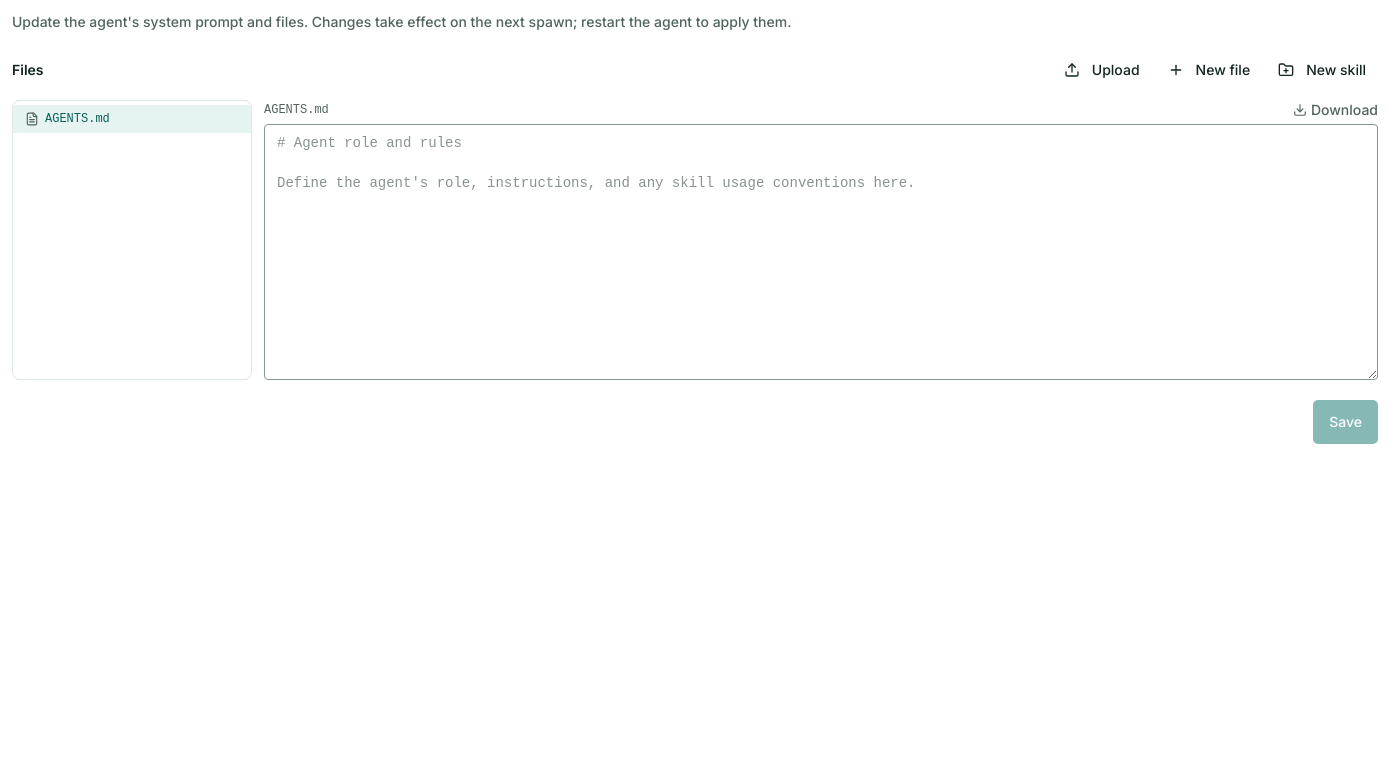
Test: ManifestPanel — AGENTS.md virtual entry › rejects AGENTS.md as a "New file" path with a clear message
Check: the button with test id "agent-edit-file-AGENTS.md" is shown, box [13,105,239,133]
Click the button with test id "agent-edit-toggle-new-file" at (1209, 70), box [1156,48,1262,92]
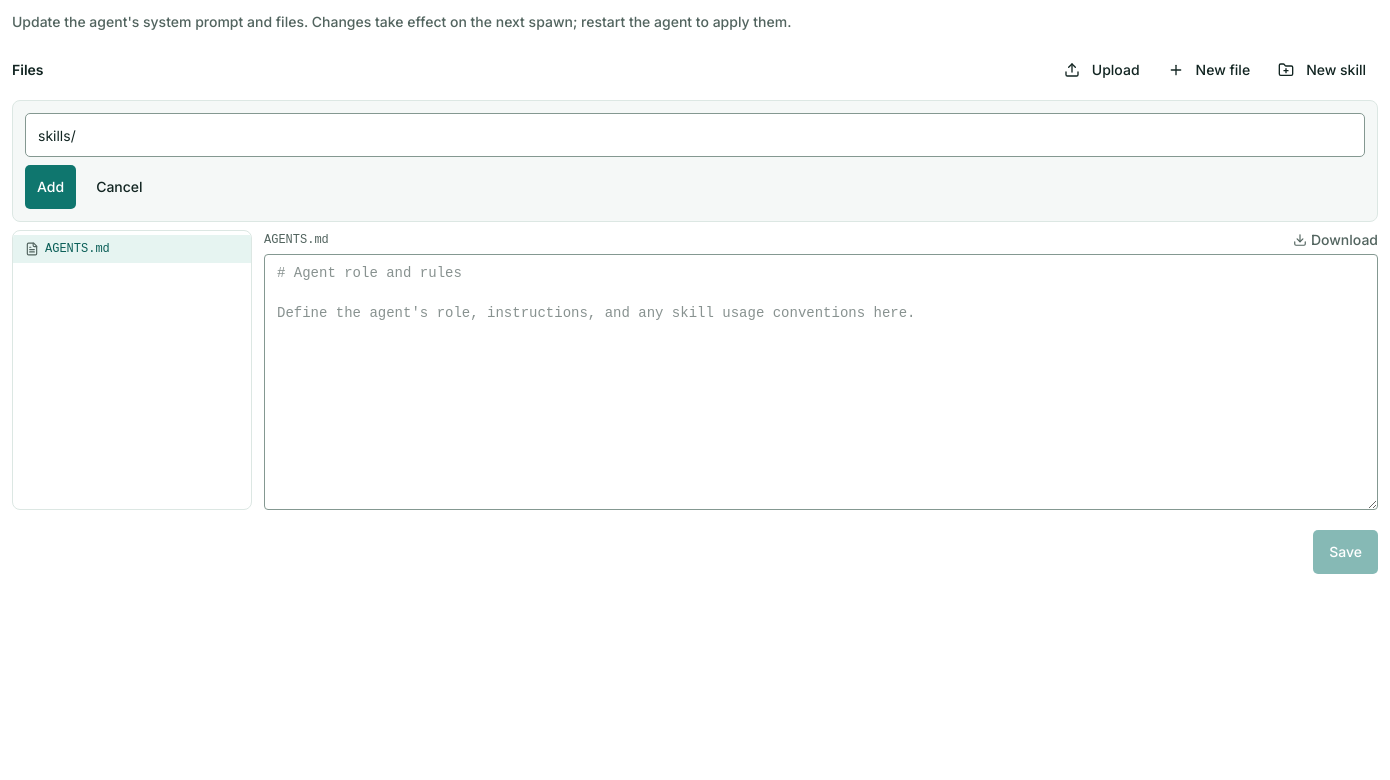
Replace the text in the field with test id "agent-edit-new-file-path" with "AGENTS.md" at (695, 135), box [25,113,1365,157]
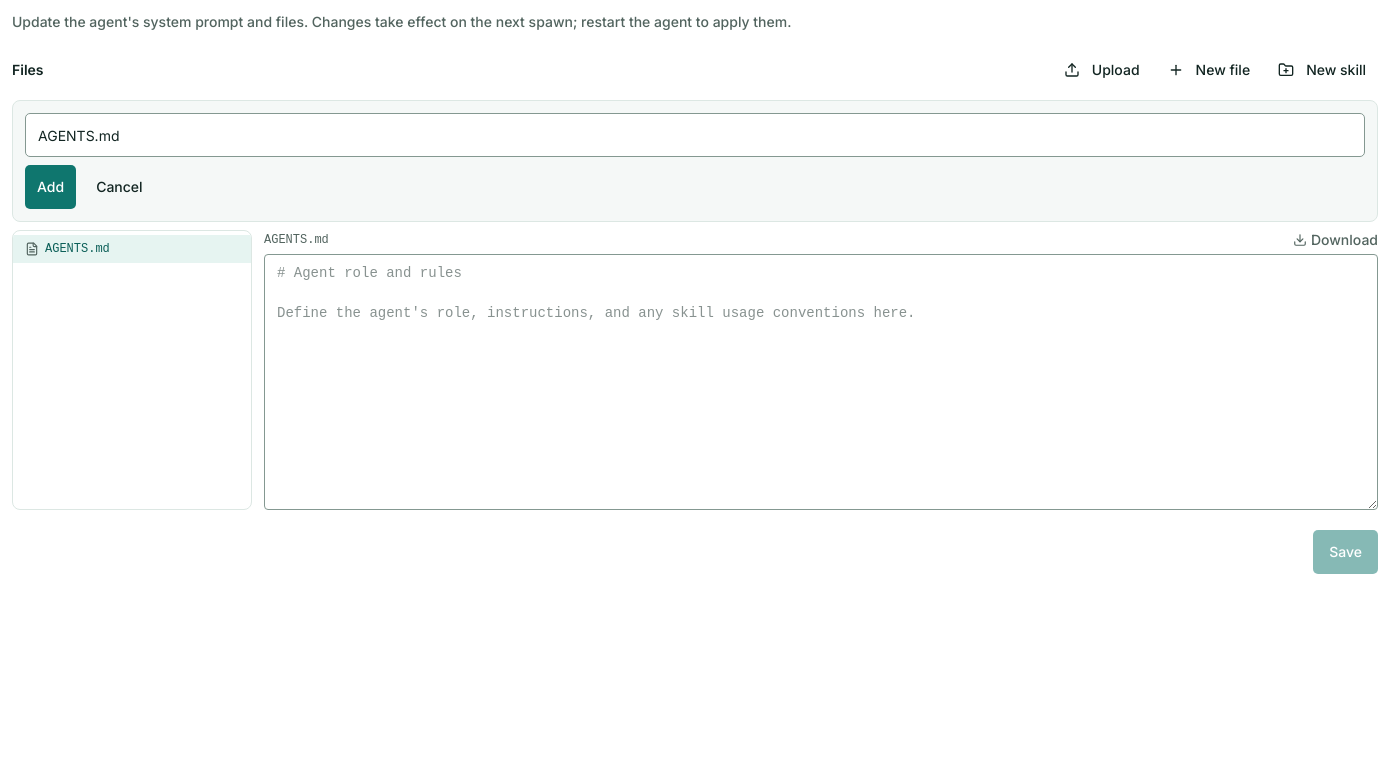
Click the button "Add" at (51, 187), box [25,165,76,209]
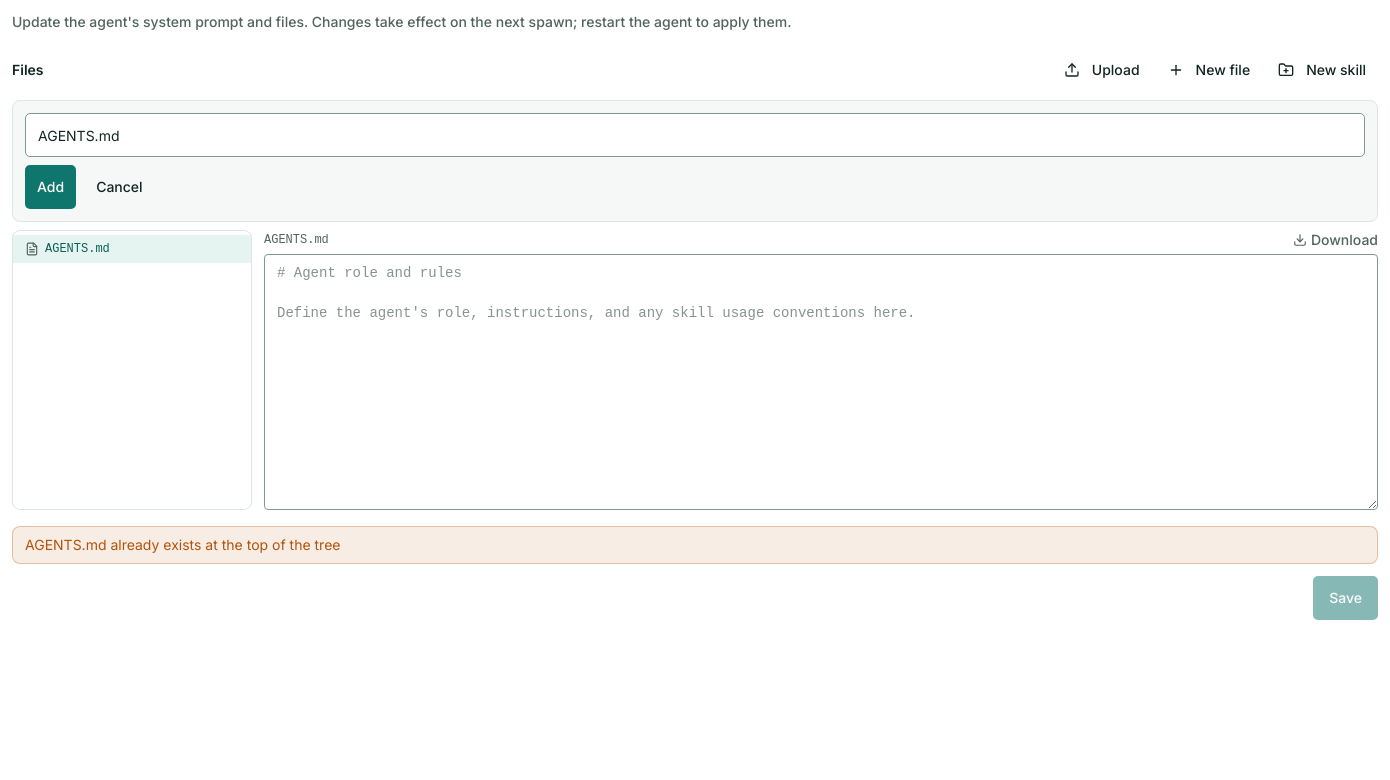
Check: the text "AGENTS.md already exists at the top of the tree" is shown, box [12,526,1378,564]
